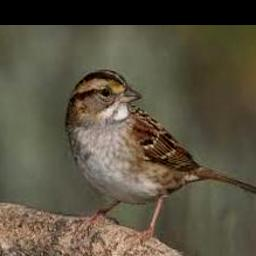Sparrow: (65, 70, 256, 245)
